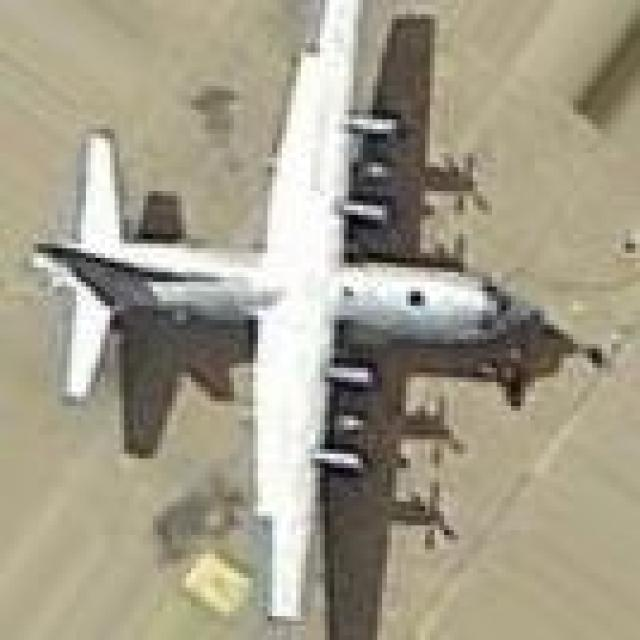C-130_TopDown: (30, 0, 575, 640)
